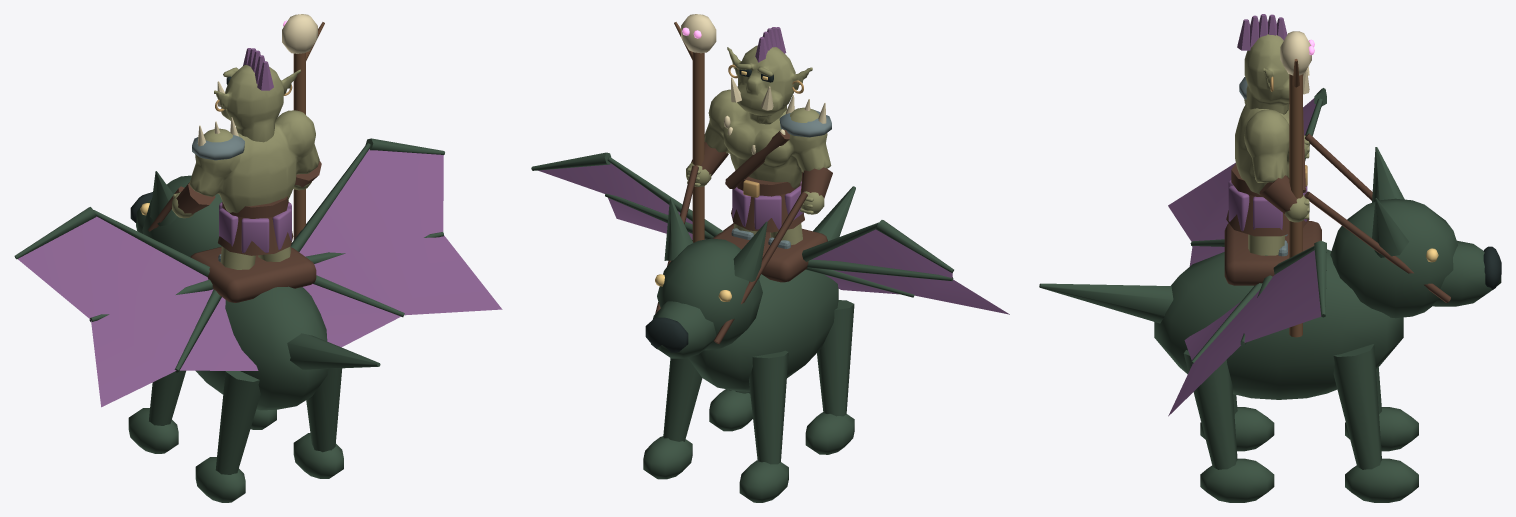
The model's file is host_15.glb.
3 views of the same model, side by side, from view 1: azimuth 30°, elevation 25°; view 2: azimuth 150°, elevation 25°; view 3: azimuth 270°, elevation 25° (orthographic). The views are drawn at different scales.
Visible parts, largest first — view 1: mesh_Cloth.002, mesh_Cloth.001, mesh_Shadow.002, mesh_Skin.002, mesh_Leather.002, mesh_Shadow.003, mesh_Shadow.005, mesh_Shadow.007, mesh_Shadow.004, mesh_Shadow.008, mesh_Cloth.014, mesh_Bone.014 (+3 smaller); view 2: mesh_Shadow.002, mesh_Skin.002, mesh_Leather.002, mesh_Cloth.001, mesh_Shadow.004, mesh_Shadow.003, mesh_Shadow.006, mesh_Cloth.002, mesh_Shadow.007, mesh_Cloth.014, mesh_Wood.014, mesh_Shadow.008 (+4 smaller); view 3: mesh_Shadow.002, mesh_Skin.002, mesh_Cloth.002, mesh_Leather.002, mesh_Shadow.006, mesh_Shadow.005, mesh_Cloth.001, mesh_Cloth.014, mesh_Wood.014, mesh_Shadow.008, mesh_Shadow.004, mesh_Shadow.003 (+4 smaller).
Part boxes in pixels (x1,y1,x2,y2): mesh_Cloth.002: [299, 149, 502, 347]; mesh_Cloth.001: [18, 216, 258, 407]; mesh_Shadow.002: [136, 171, 380, 410]; mesh_Skin.002: [172, 65, 319, 218]; mesh_Leather.002: [148, 161, 321, 302]; mesh_Shadow.003: [195, 371, 260, 502]; mesh_Shadow.005: [293, 368, 343, 478]; mesh_Shadow.007: [14, 207, 221, 372]; mesh_Shadow.004: [128, 370, 185, 453]; mesh_Shadow.008: [290, 138, 444, 317]; mesh_Cloth.014: [219, 48, 291, 252]; mesh_Bone.014: [197, 14, 317, 146]; mesh_Shadow.002: [651, 186, 855, 391]; mesh_Skin.002: [686, 45, 831, 214]; mesh_Leather.002: [655, 130, 832, 344]; mesh_Cloth.001: [812, 229, 1009, 314]; mesh_Shadow.004: [739, 350, 788, 502]; mesh_Shadow.003: [805, 300, 854, 454]; mesh_Shadow.006: [643, 358, 702, 479]; mesh_Cloth.002: [538, 163, 705, 239]; mesh_Shadow.007: [802, 220, 953, 297]; mesh_Cloth.014: [732, 27, 803, 229]; mesh_Wood.014: [674, 22, 704, 242]; mesh_Shadow.008: [531, 152, 723, 240]; mesh_Shadow.002: [1039, 147, 1501, 399]; mesh_Skin.002: [1235, 34, 1309, 222]; mesh_Cloth.002: [1168, 250, 1321, 416]; mesh_Leather.002: [1224, 110, 1450, 302]; mesh_Shadow.006: [1333, 344, 1418, 502]; mesh_Shadow.005: [1183, 350, 1274, 502]; mesh_Cloth.001: [1168, 98, 1315, 266]; mesh_Cloth.014: [1228, 14, 1307, 231]; mesh_Wood.014: [1289, 59, 1302, 337]; mesh_Shadow.008: [1190, 240, 1326, 364]; mesh_Shadow.004: [1345, 367, 1418, 451]; mesh_Shadow.003: [1200, 394, 1274, 451].
Bounding box in the file's own units: 2.03 × 1.98 × 1.75.
